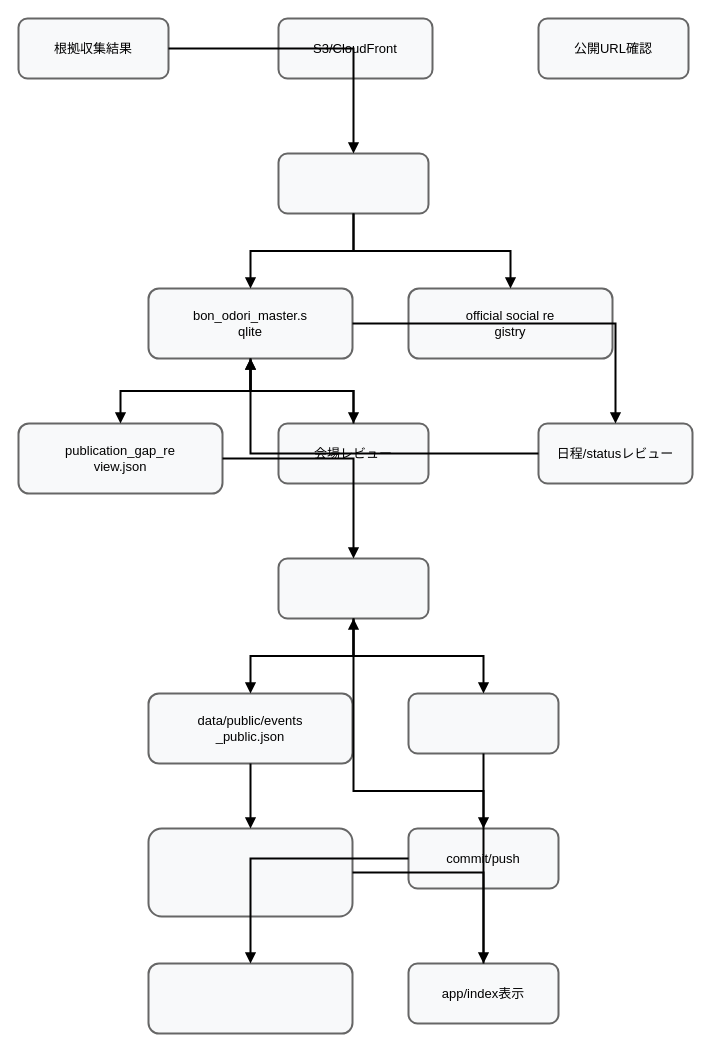
Image size: 710x1051. Some labels were removed from this diagram. The shapes that lost their labels are listed below. From the top down, each one's centre as x and y in pixels, then its label:
At [353,183]: "根拠本文レビュー".
At [353,588]: "diffレビュー".
At [483,723]: "deploy承認".
At [250,872]: "bon-odori-site/dat a/events_public.js on".
At [250,998]: "Deploy static site workflow".
